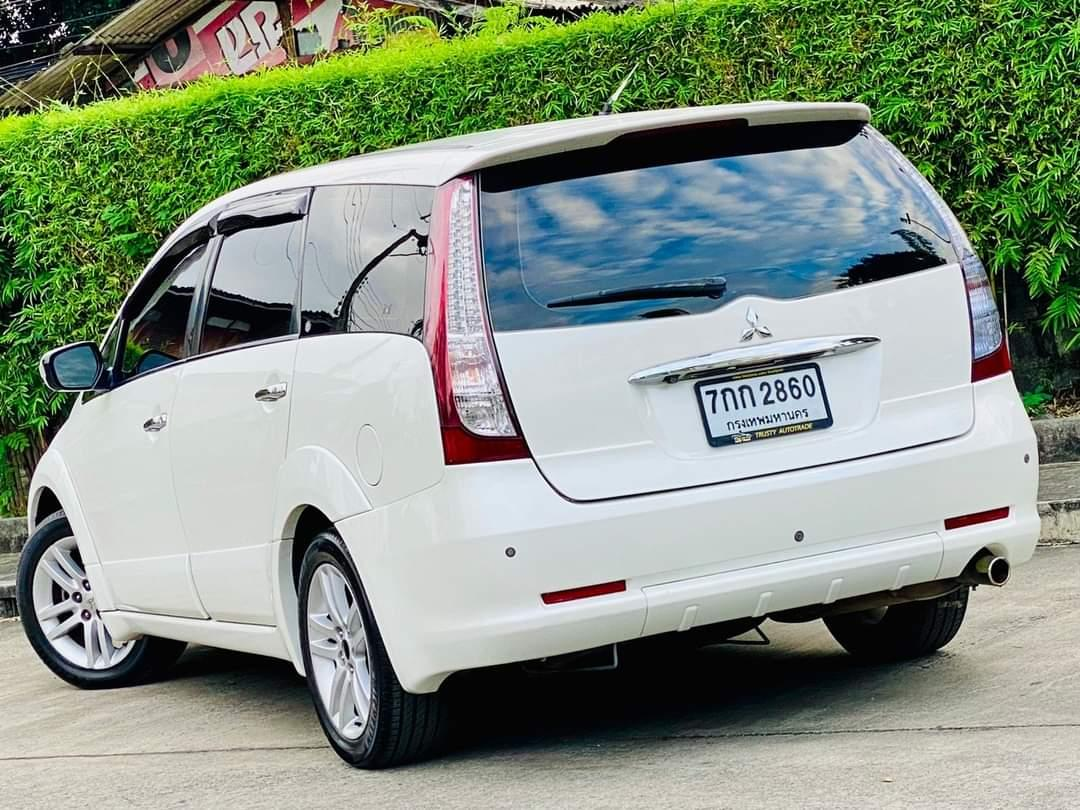license-plate: (695, 361, 833, 448)
